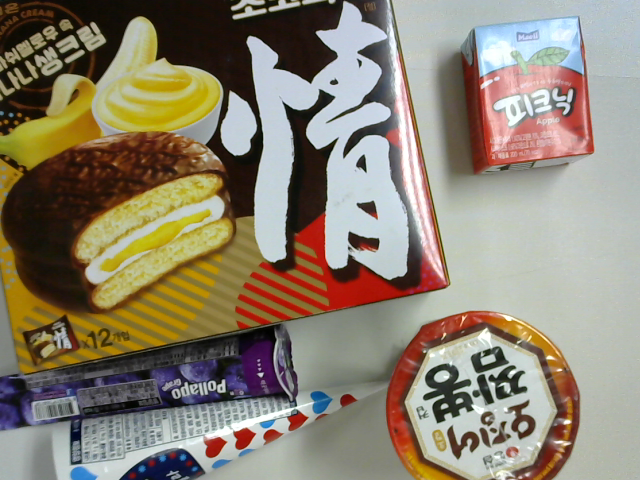Bravo_Cone_(Banila)_CVS: (47, 382, 390, 480)
Choco_Pie_Banana: (5, 8, 453, 372)
Ojjam: (387, 314, 583, 480)
Picnic_Apple: (457, 14, 599, 184)
Polapo_Grape: (1, 334, 303, 432)
